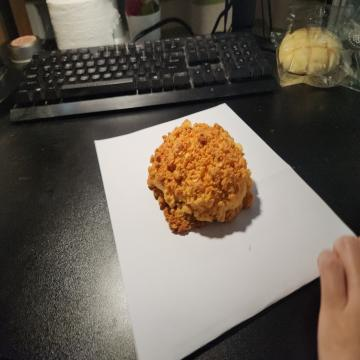soboru_bread: (148, 124, 254, 241)
